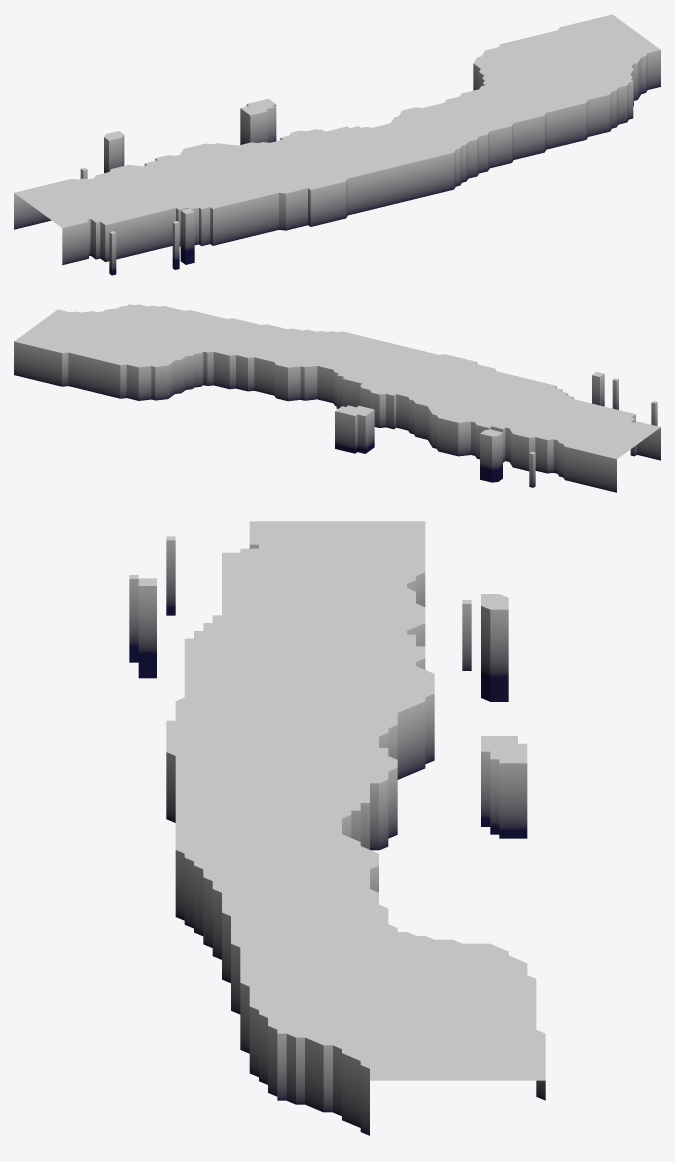
Rendered from BarrensPart6.obj.
3 views of the same model, one above another, from view 1: azimuth 30°, elevation 25°; view 2: azimuth 150°, elevation 25°; view 3: azimuth 270°, elevation 25° (orthographic). The views are drawn at different scales.
Visible parts, largest first — view 1: BarrensPart6; view 2: BarrensPart6; view 3: BarrensPart6.
Boxes of the visible parts, x1=… form: BarrensPart6: x1=14, y1=14, x2=660, y2=275; BarrensPart6: x1=14, y1=304, x2=660, y2=492; BarrensPart6: x1=129, y1=521, x2=545, y2=1135.
Size of the model in its own units: 143 by 12 by 45.
